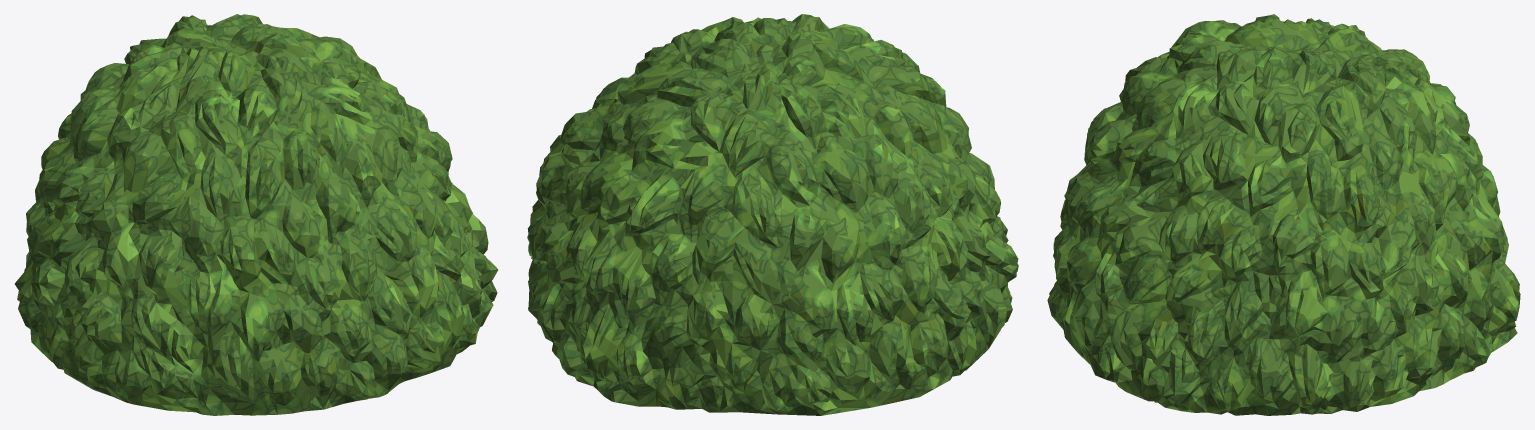
File: arbusto2.obj
The picture shows the model from 3 angles, left to right: view 1: azimuth 30°, elevation 25°; view 2: azimuth 150°, elevation 25°; view 3: azimuth 270°, elevation 25°; orthographic projection. The views are drawn at different scales.
Parts seen in each view (by area): view 1: Bush:Group22959; view 2: Bush:Group22959; view 3: Bush:Group22959.
Boxes of the visible parts, <box> form: Bush:Group22959: <box>14,14,498,415</box>; Bush:Group22959: <box>527,14,1018,415</box>; Bush:Group22959: <box>1047,14,1520,415</box>.
Bounding box in the file's own units: 5.05 × 3.33 × 4.97.
Materials: 1 (1 with a texture image).
